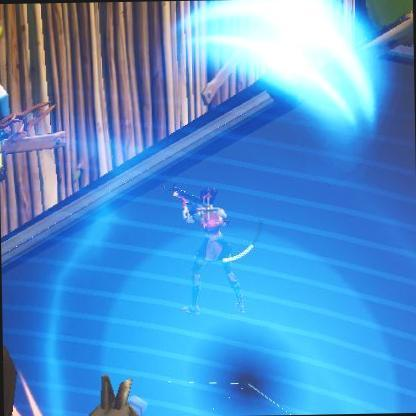person: (186, 184, 245, 310)
